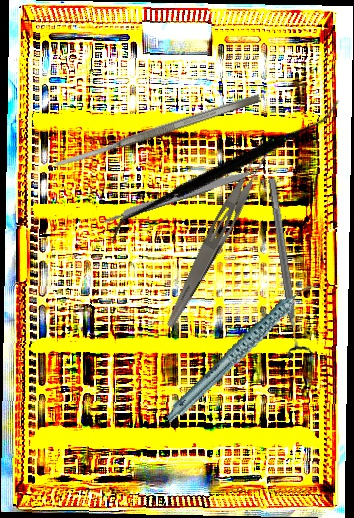Dressing Forceps: (161, 137, 277, 333)
Fixation Ring: (257, 175, 315, 361)
Handpiece: (143, 279, 341, 424)
Scalpel Handle: (100, 165, 256, 226)
Spatula Surgical: (108, 34, 342, 308), (53, 92, 262, 170)
